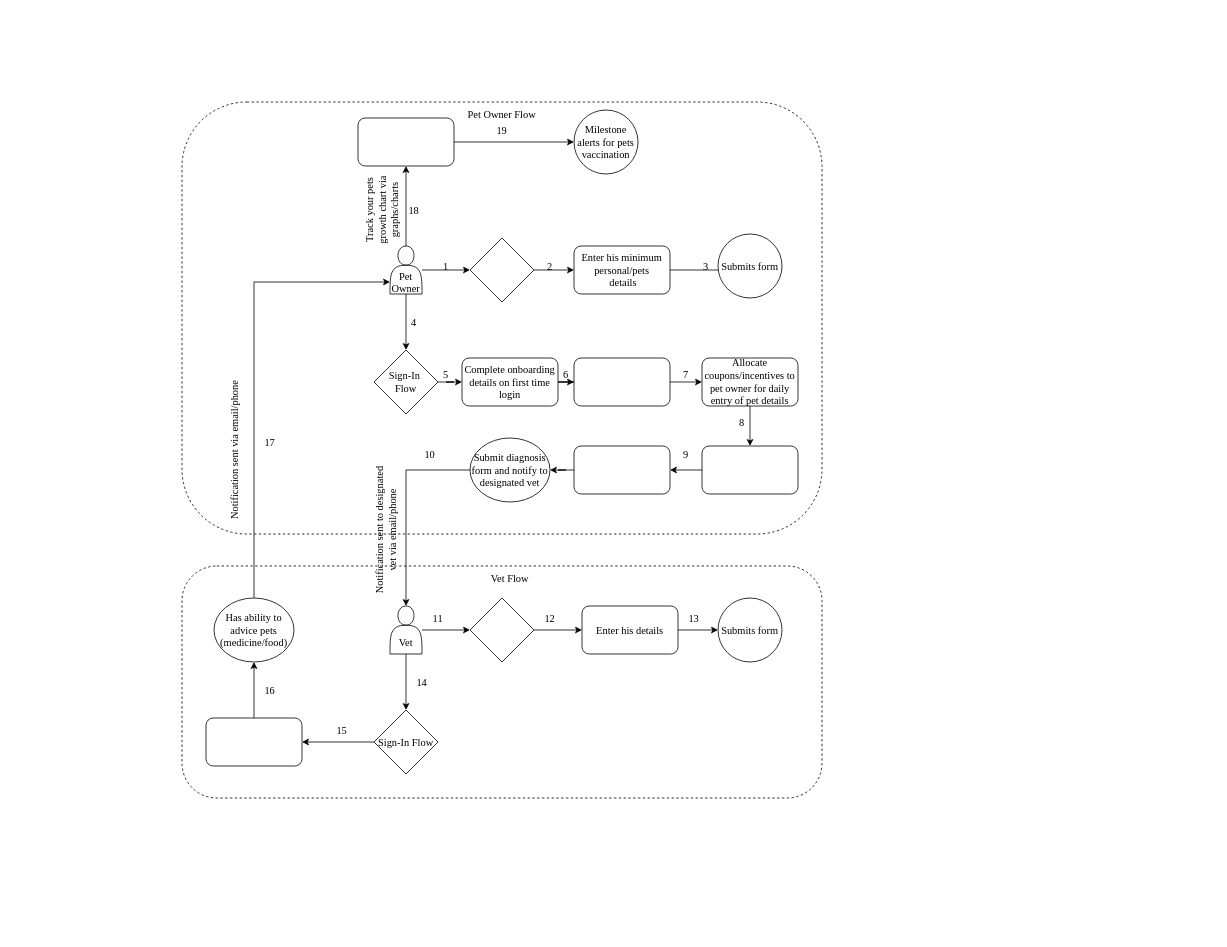
Image size: 1227x947. Some labels were removed from this diagram. The shapes that lost their labels are listed below. From the top down, each one's centre as x and y in pixels, then its label:
At point 405,141: "Growth Charts For Vets".
At point 501,269: "Sign-Up Flow".
At point 621,381: "Option to enter pets nutrition's details on daily basis".
At point 621,469: "Upload pdf in diagnoses form".
At point 749,469: "Functionality to download pets details in pdf".
At point 501,629: "SignUp Flow".
At point 253,741: "Has ability to view pets details which is submitted by pet owner via pdf".
